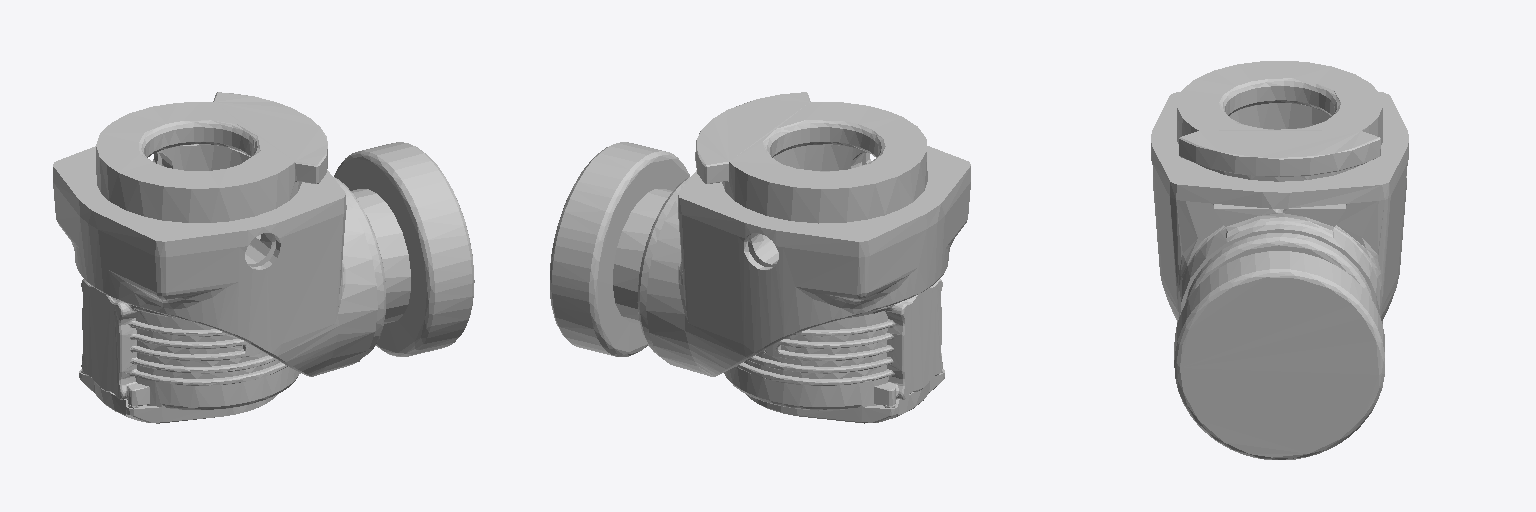
Rendered from rear_left_hip.obj.
3 views of the same model, side by side, from view 1: azimuth 30°, elevation 25°; view 2: azimuth 150°, elevation 25°; view 3: azimuth 270°, elevation 25° (orthographic).
Visible parts, largest first — view 1: _2-042137-001-A00_TOP_LEVEL_DEFEATURED_-_NOT_FOR_PRODUCTION_009; view 2: _2-042137-001-A00_TOP_LEVEL_DEFEATURED_-_NOT_FOR_PRODUCTION_009; view 3: _2-042137-001-A00_TOP_LEVEL_DEFEATURED_-_NOT_FOR_PRODUCTION_009.
Boxes of the visible parts, x1,y1,x2,y2 form: _2-042137-001-A00_TOP_LEVEL_DEFEATURED_-_NOT_FOR_PRODUCTION_009: [53, 92, 474, 423]; _2-042137-001-A00_TOP_LEVEL_DEFEATURED_-_NOT_FOR_PRODUCTION_009: [550, 92, 970, 423]; _2-042137-001-A00_TOP_LEVEL_DEFEATURED_-_NOT_FOR_PRODUCTION_009: [1151, 61, 1408, 459].
Size of the model in its own units: 0.1417 by 0.1001 by 0.0941.